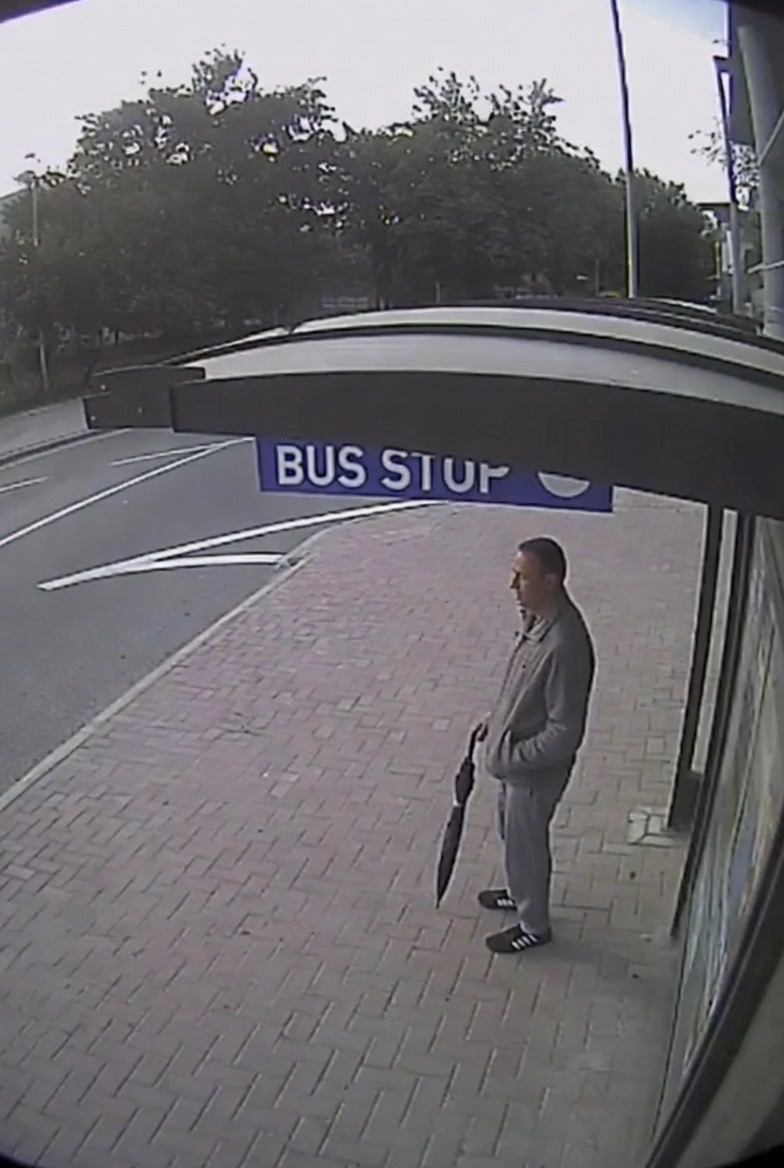person: (487, 541, 603, 965)
umbrella: (423, 721, 493, 919)
